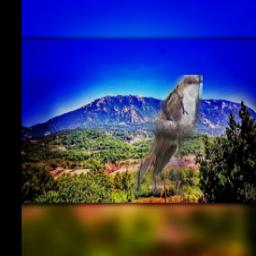Cuckoo: (126, 75, 204, 195)
